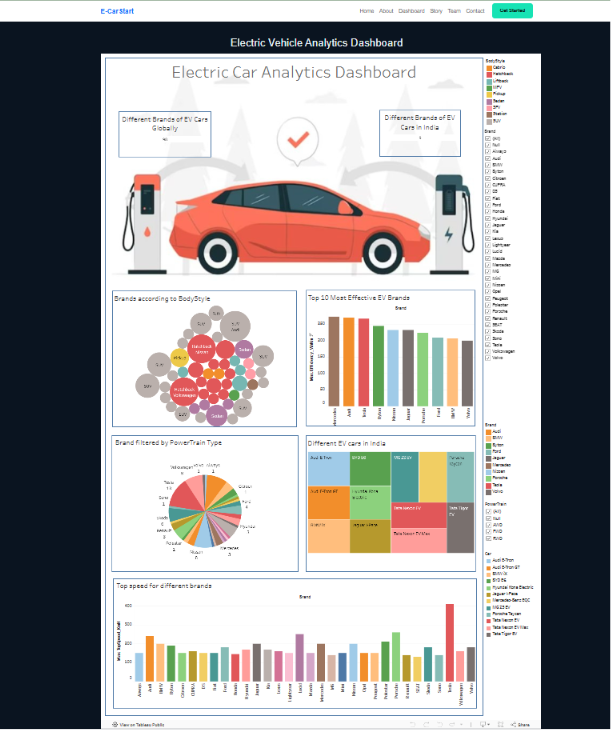

The dashboard page shown, as its layout file describes it:
{"tool":"tableau","page":{"name":"Dashboard 1","canvas":[1320,2000],"ordinal":0},"visuals":[{"type":"image","param":"C:/Users/meghana/OneDrive/Desktop/car.jpg","box":[8,8,1144,1984]},{"type":"text","box":[11,11,1136,89]},{"type":"legend","title":"Brands according to BodyStyle","param":"[federated.0li58wx0324dxf187dg4u1fxezel].[none:BodyStyle:nk]","box":[1154,14,158,211]},{"type":"worksheet","title":"Different Brands of EV Cars in India","mark":"Automatic","box":[834,169,247,141]},{"type":"worksheet","title":"Different Brands of EV Cars Globally","mark":"Automatic","box":[53,173,279,138]},{"type":"filter","title":"Top 10 Most Effective EV Brands","param":"[federated.0li58wx0324dxf187dg4u1fxezel].[none:Brand:nk]","box":[1150,225,160,881]},{"type":"worksheet","title":"Top 10 Most Effective EV Brands","mark":"Automatic","rows":["Efficiency_WhKm"],"cols":["Brand"],"box":[615,709,509,410]},{"type":"worksheet","title":"Brands according to BodyStyle","mark":"Circle","box":[33,711,555,410]},{"type":"legend","title":"Top 10 Most Effective EV Brands","param":"[federated.0li58wx0324dxf187dg4u1fxezel].[none:Brand:nk]","box":[1152,1106,154,232]},{"type":"worksheet","title":" Brand filtered by PowerTrain Type","mark":"Pie","box":[32,1144,561,412]},{"type":"worksheet","title":"Different EV cars in India","mark":"Automatic","box":[614,1145,511,411]},{"type":"filter","title":" Brand filtered by PowerTrain Type","param":"[federated.0li58wx0324dxf187dg4u1fxezel].[none:PowerTrain:nk]","box":[1152,1345,156,151]},{"type":"legend","title":"Different EV cars in India","param":"[federated.0li58wx0324dxf187dg4u1fxezel].[none:Car:nk]","box":[1152,1493,160,295]},{"type":"worksheet","title":" Top speed for different brands","mark":"Automatic","rows":["TopSpeed_KmH"],"cols":["Brand"],"box":[36,1574,1092,391]}]}

Visuals, with their boxes on the page's 1320x2000 design canvas (x1, y1, x2, y2). These are canvas units, not pixel positions in the 611x730 screenshot, which may show the page scaled, cropped or inside an application window:
image: (8,8,1152,1992)
text: (11,11,1147,100)
"Brands according to BodyStyle" legend: (1154,14,1312,225)
"Different Brands of EV Cars in India" worksheet: (834,169,1081,310)
"Different Brands of EV Cars Globally" worksheet: (53,173,332,311)
"Top 10 Most Effective EV Brands" filter: (1150,225,1310,1106)
"Top 10 Most Effective EV Brands" worksheet: (615,709,1124,1119)
"Brands according to BodyStyle" worksheet (Circle marks): (33,711,588,1121)
"Top 10 Most Effective EV Brands" legend: (1152,1106,1306,1338)
" Brand filtered by PowerTrain Type" worksheet (Pie marks): (32,1144,593,1556)
"Different EV cars in India" worksheet: (614,1145,1125,1556)
" Brand filtered by PowerTrain Type" filter: (1152,1345,1308,1496)
"Different EV cars in India" legend: (1152,1493,1312,1788)
" Top speed for different brands" worksheet: (36,1574,1128,1965)
